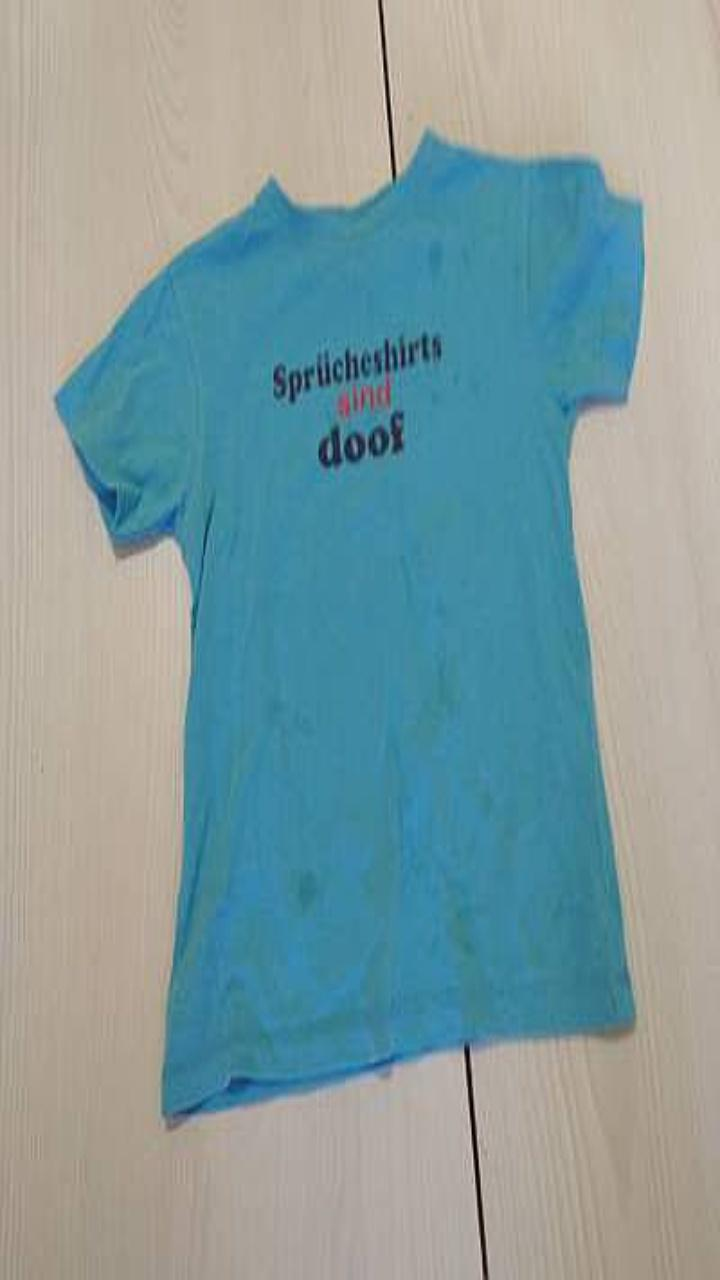T-Shirt: (55, 128, 642, 1115)
